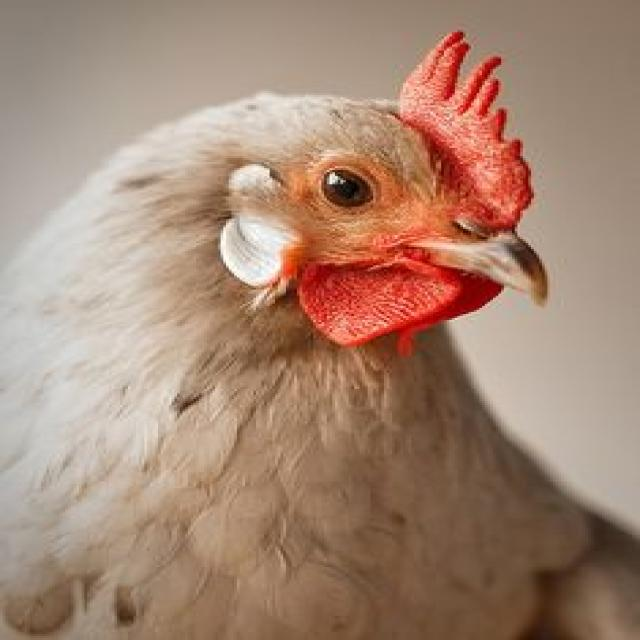Herbivorous: (0, 30, 640, 640)
